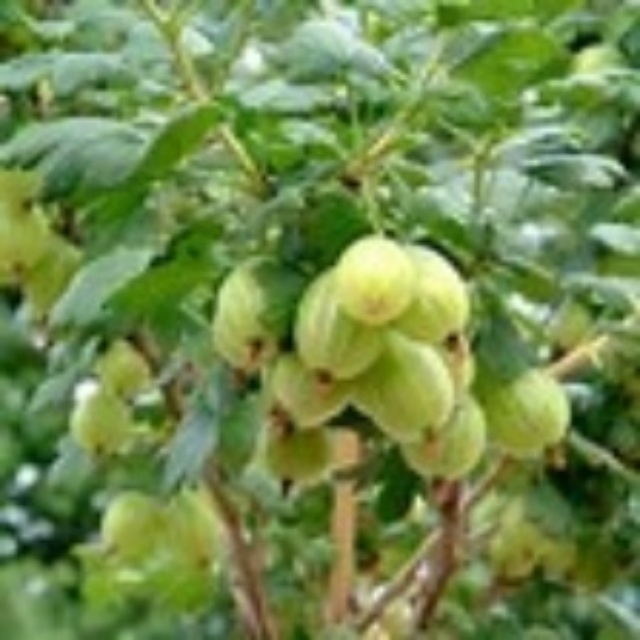kiwi: (296, 234, 474, 435), (409, 388, 573, 479), (98, 485, 235, 583), (55, 358, 155, 467), (212, 264, 289, 386), (252, 413, 347, 491)
